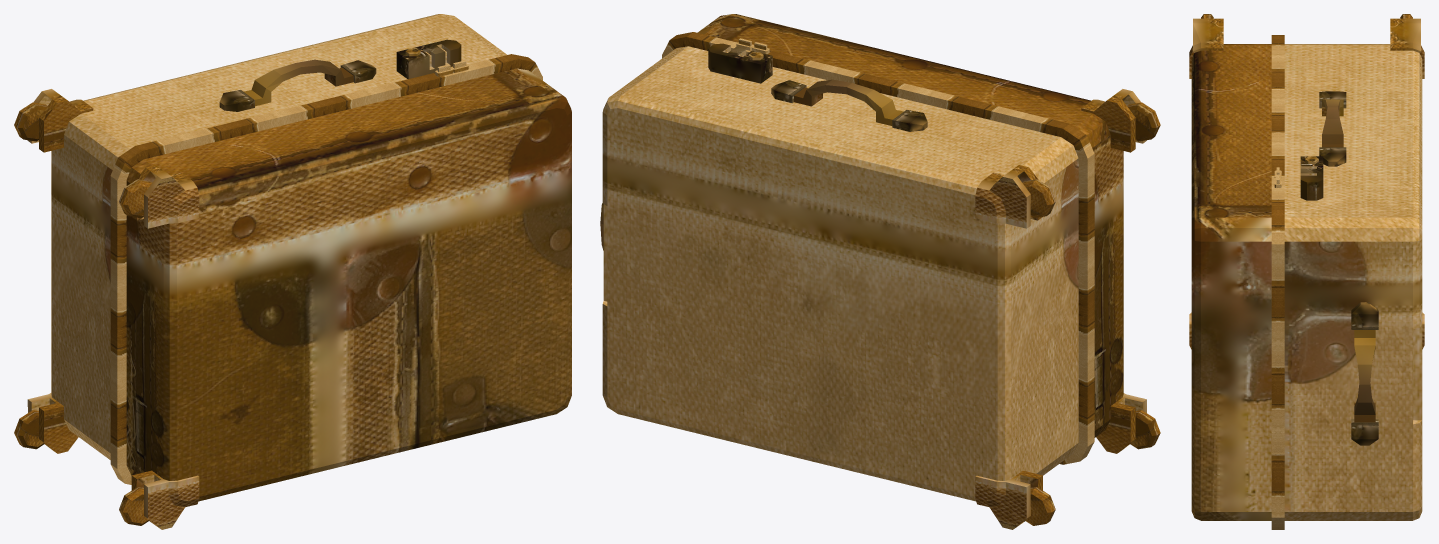
Rendered from suitcase.obj.
3 renders of one model, left to right at view 1: azimuth 30°, elevation 25°; view 2: azimuth 150°, elevation 25°; view 3: azimuth 270°, elevation 25°, orthographic. The views are drawn at different scales.
Size of the model in its own units: 0.55 by 0.4 by 0.25.
